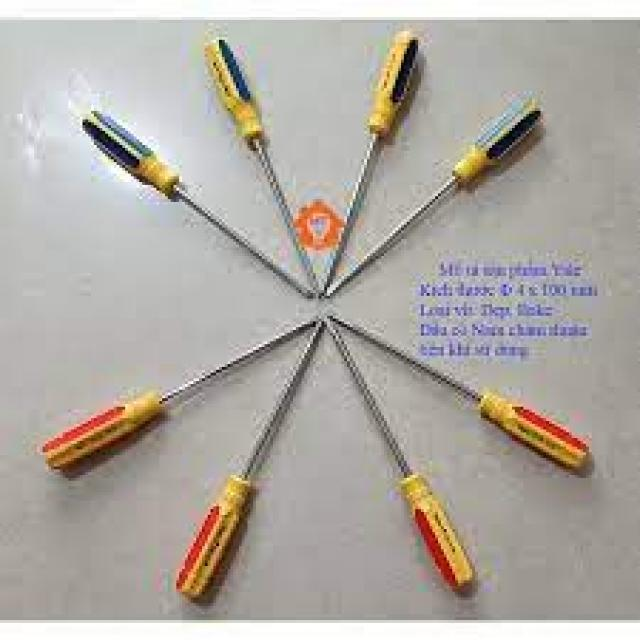screwdriver: (34, 314, 324, 480), (323, 94, 545, 302), (77, 107, 316, 300), (175, 314, 326, 604), (324, 311, 592, 471), (324, 314, 475, 593), (201, 32, 320, 300), (318, 28, 422, 302)
